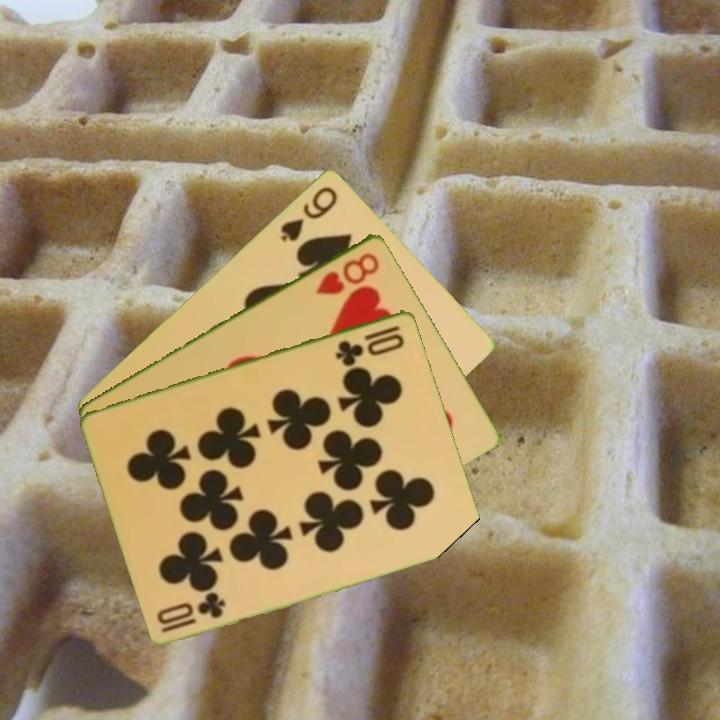10c: (332, 321, 408, 368), (157, 589, 229, 635)
8h: (311, 248, 383, 297)
9s: (277, 182, 341, 244)
